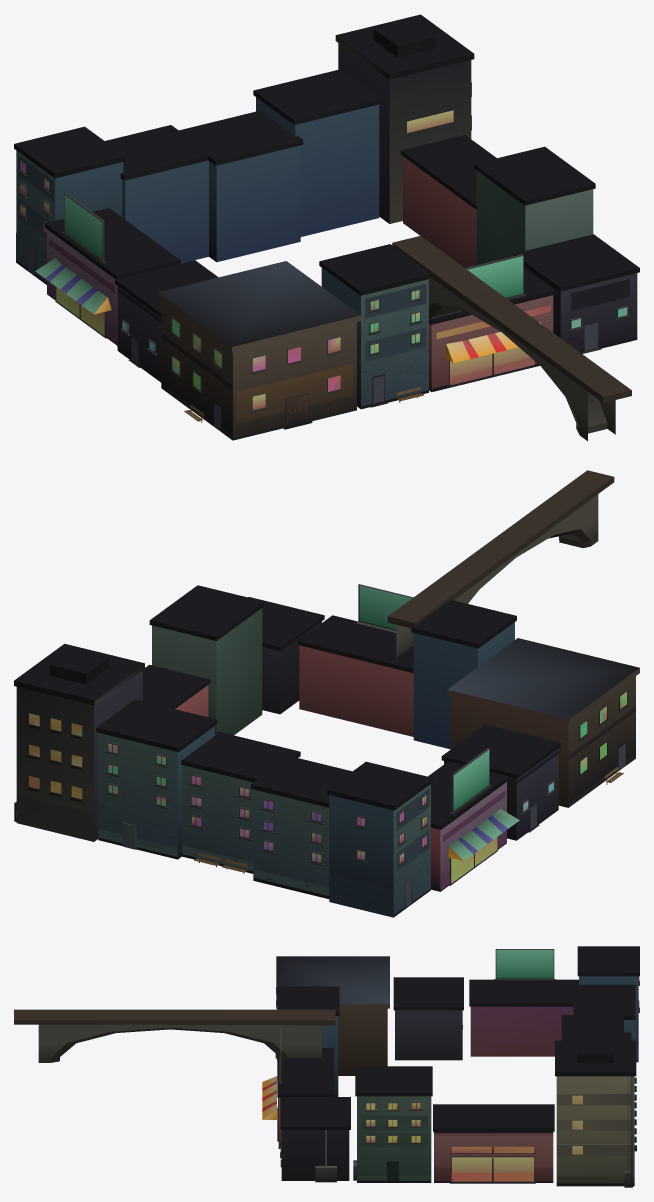
Rendered from bb-small-ascii.fbx.
3 views of the same model, one above another, from view 1: azimuth 30°, elevation 25°; view 2: azimuth 150°, elevation 25°; view 3: azimuth 270°, elevation 25° (orthographic). The views are drawn at different scales.
Parts seen in each view (by area): view 1: building-block-small; view 2: building-block-small; view 3: building-block-small.
Part boxes in pixels (x1,y1,x2,y2): building-block-small: (14, 14, 639, 441); building-block-small: (14, 470, 639, 917); building-block-small: (14, 946, 639, 1187).
Bounding box in the file's own units: 70.45 × 25.16 × 115.
